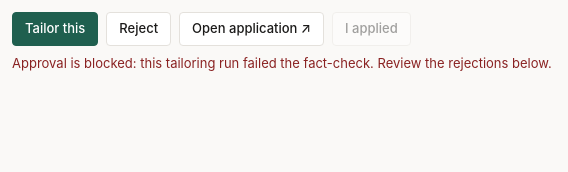
Test: Actions — tailoring is queued, not awaited › surfaces the reason a run failed instead of silently refreshing
The width and height of the screenshot is (568, 172).
Click the button "Tailor this". click: (55, 29)
box: [12,12,98,46]
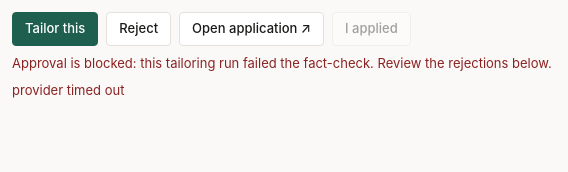
Result: the text "provider timed out" is shown at [12,82,124,98]
